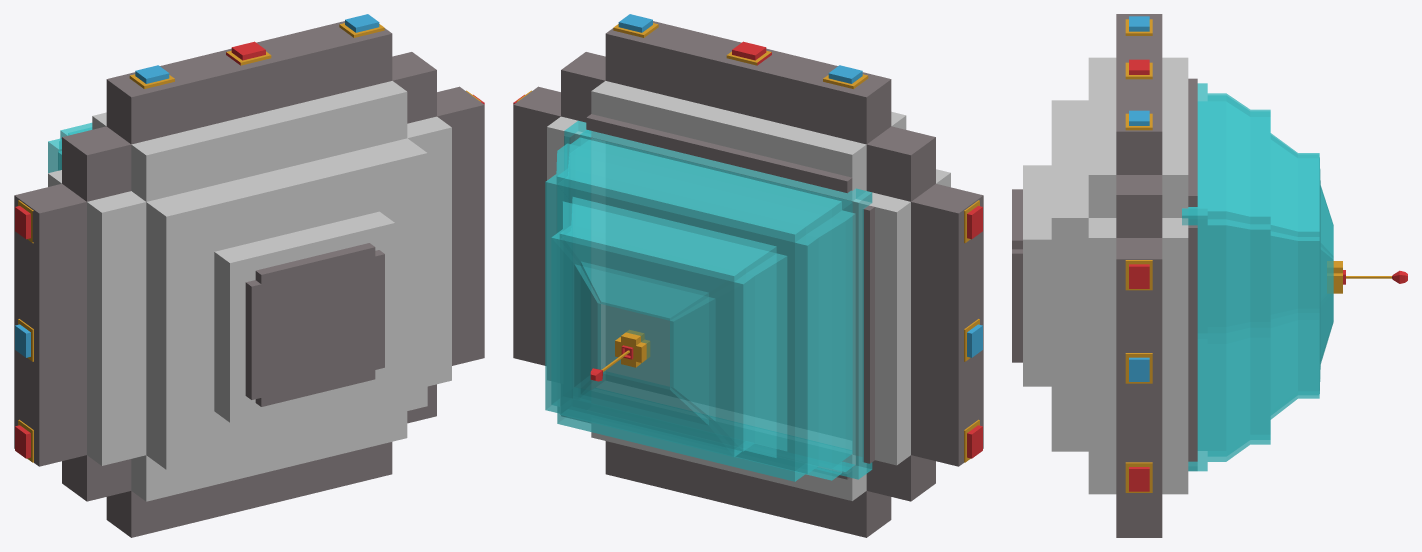
File: space_ship.fbx
3 renders of one model, left to right at view 1: azimuth 30°, elevation 25°; view 2: azimuth 150°, elevation 25°; view 3: azimuth 270°, elevation 25°, orthographic. The views are drawn at different scales.
Visible parts, largest first — view 1: Cube.001; view 2: Cube.001; view 3: Cube.001.
Part boxes in pixels (<box>): Cube.001: <box>14,14,484,537</box>; Cube.001: <box>513,14,983,537</box>; Cube.001: <box>1012,14,1407,537</box>.
Bounding box in the file's own units: 1245 × 1180 × 1009.
